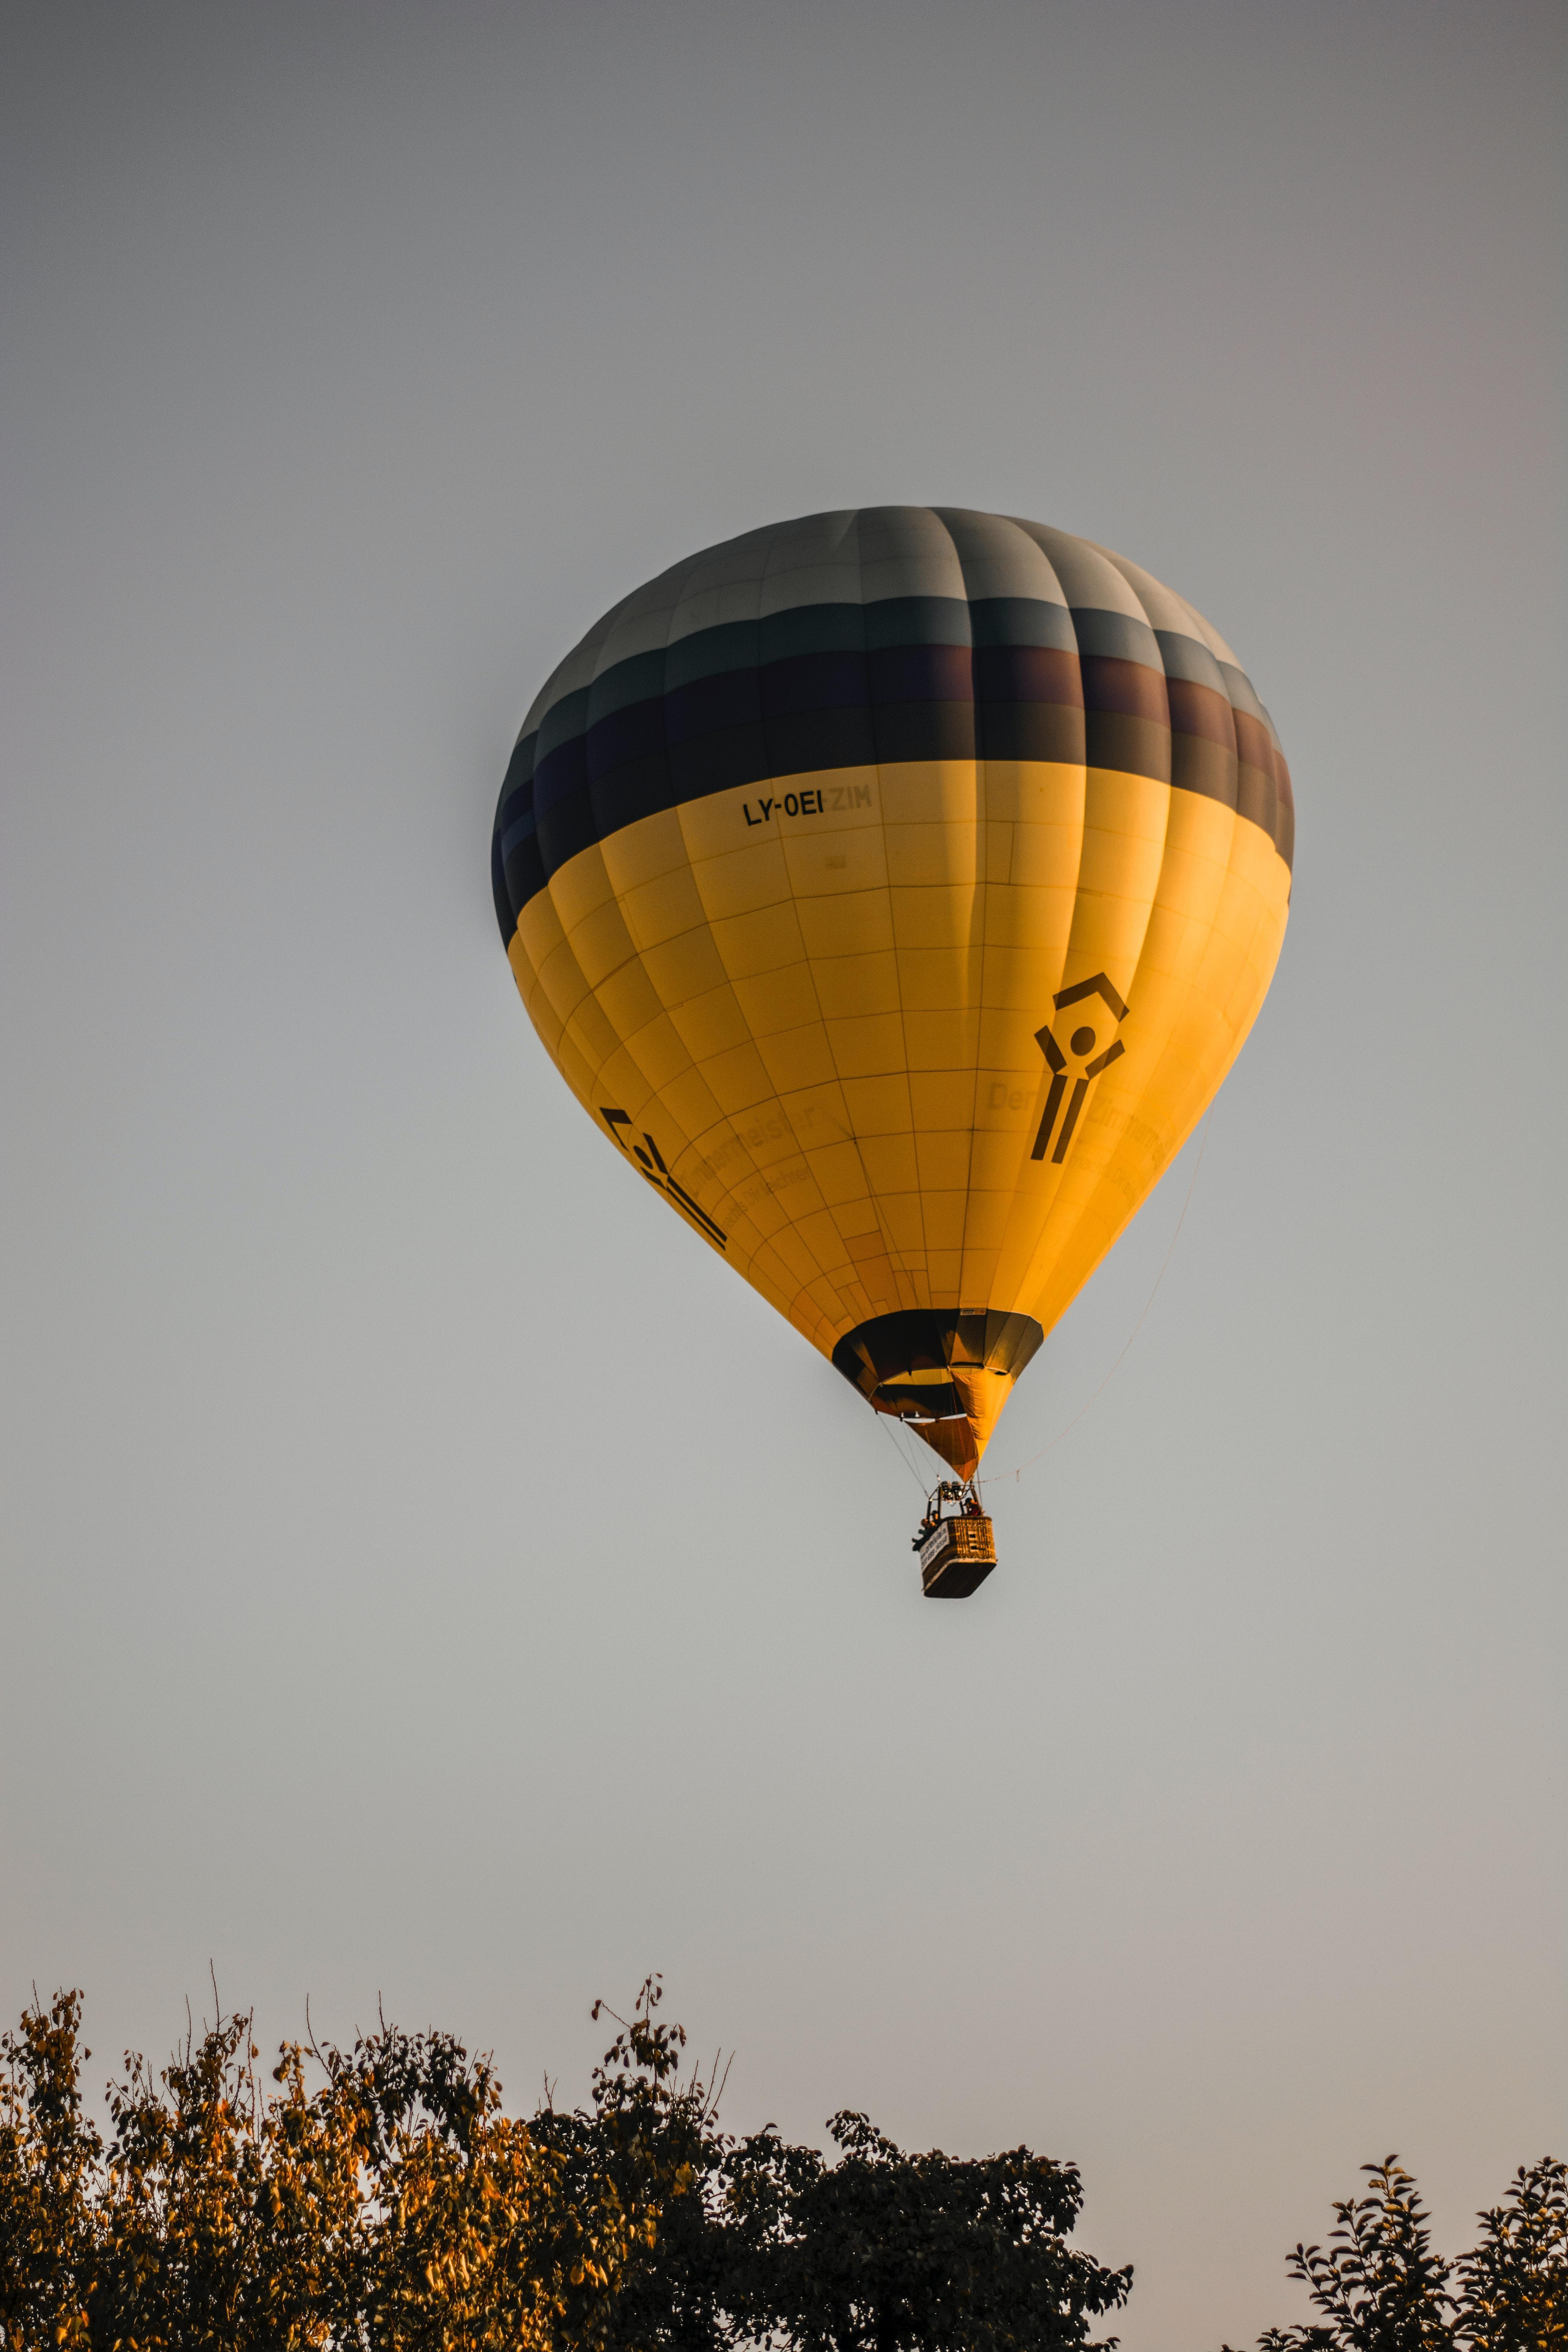hot air ballon: (485, 502, 1295, 1603)
